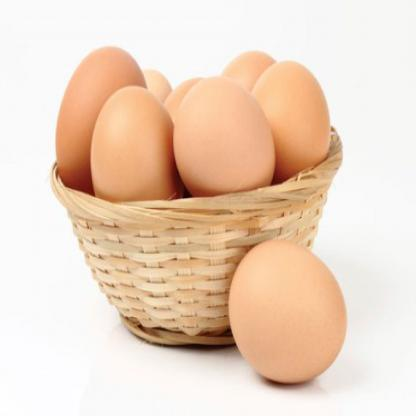egg: (223, 236, 354, 394), (82, 72, 188, 222), (166, 68, 290, 196), (238, 40, 332, 179), (48, 53, 146, 170)
